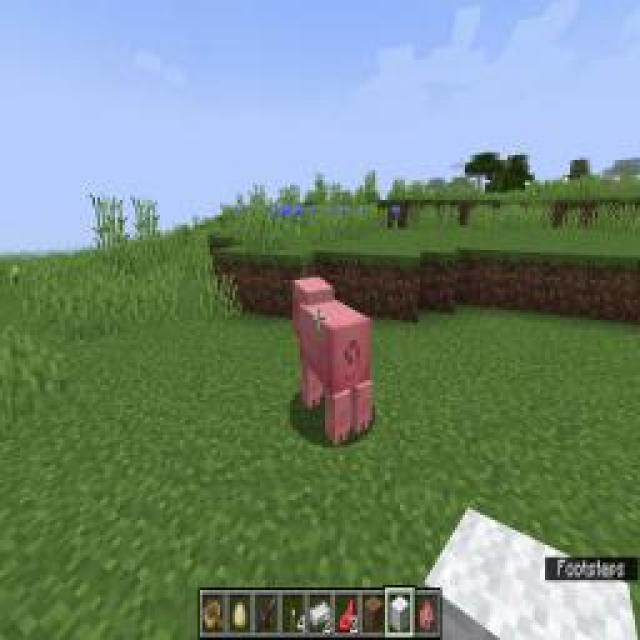Pig: (289, 270, 376, 450)
